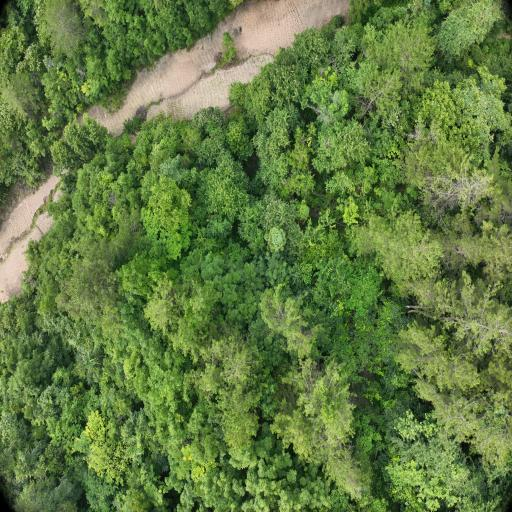dead-tree: (433, 178, 485, 199), (365, 97, 376, 110)
